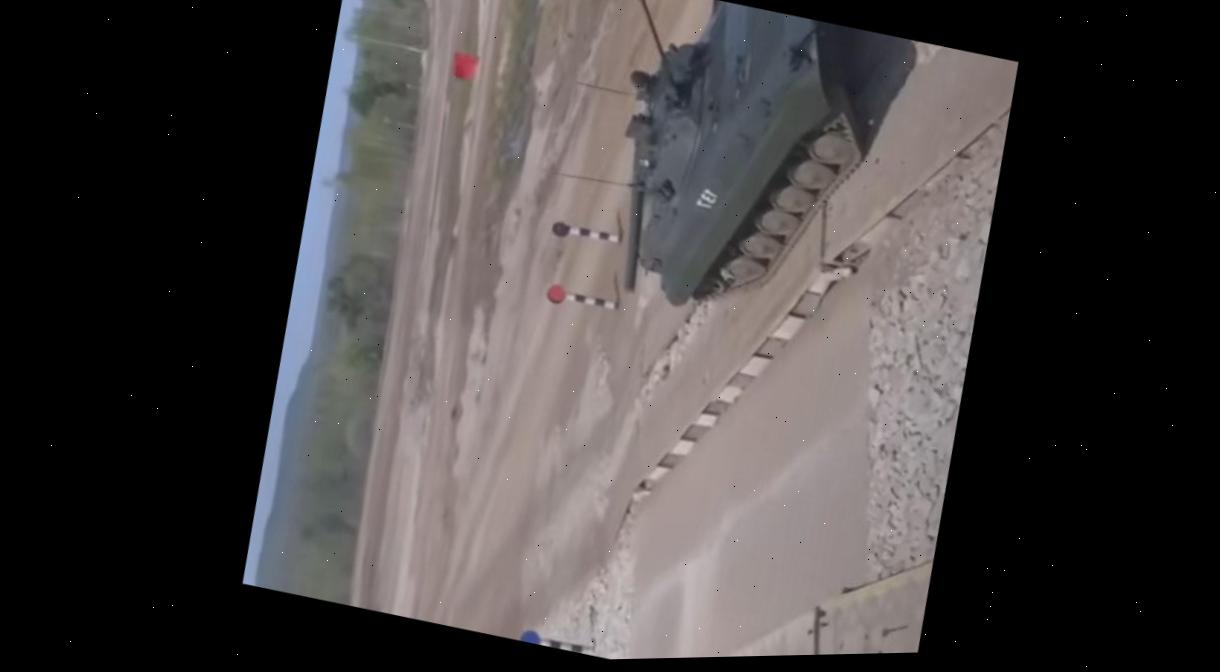tank: (549, 0, 895, 333)
